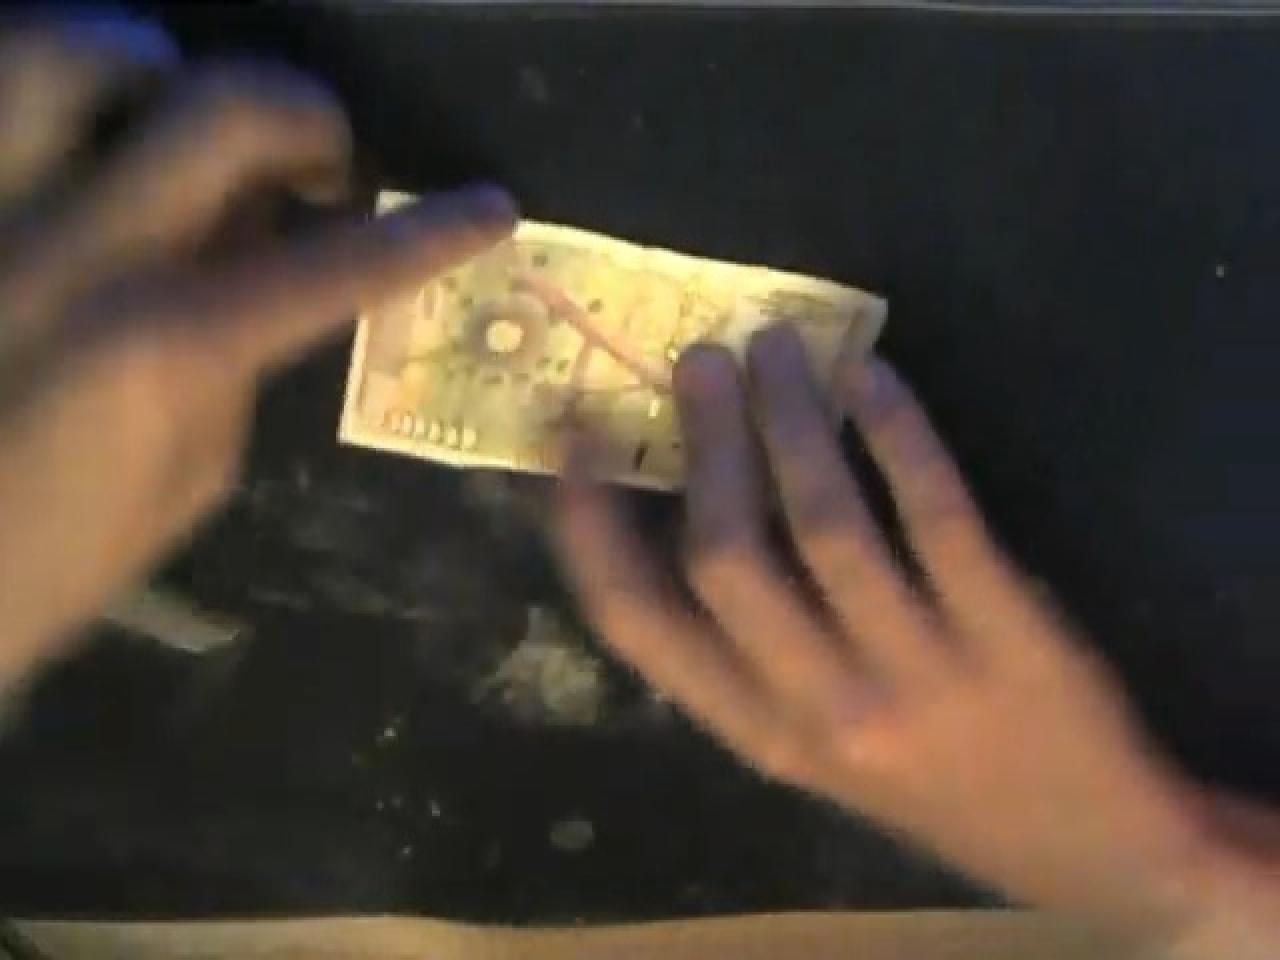10leva: (336, 216, 888, 491), (336, 216, 886, 491)
